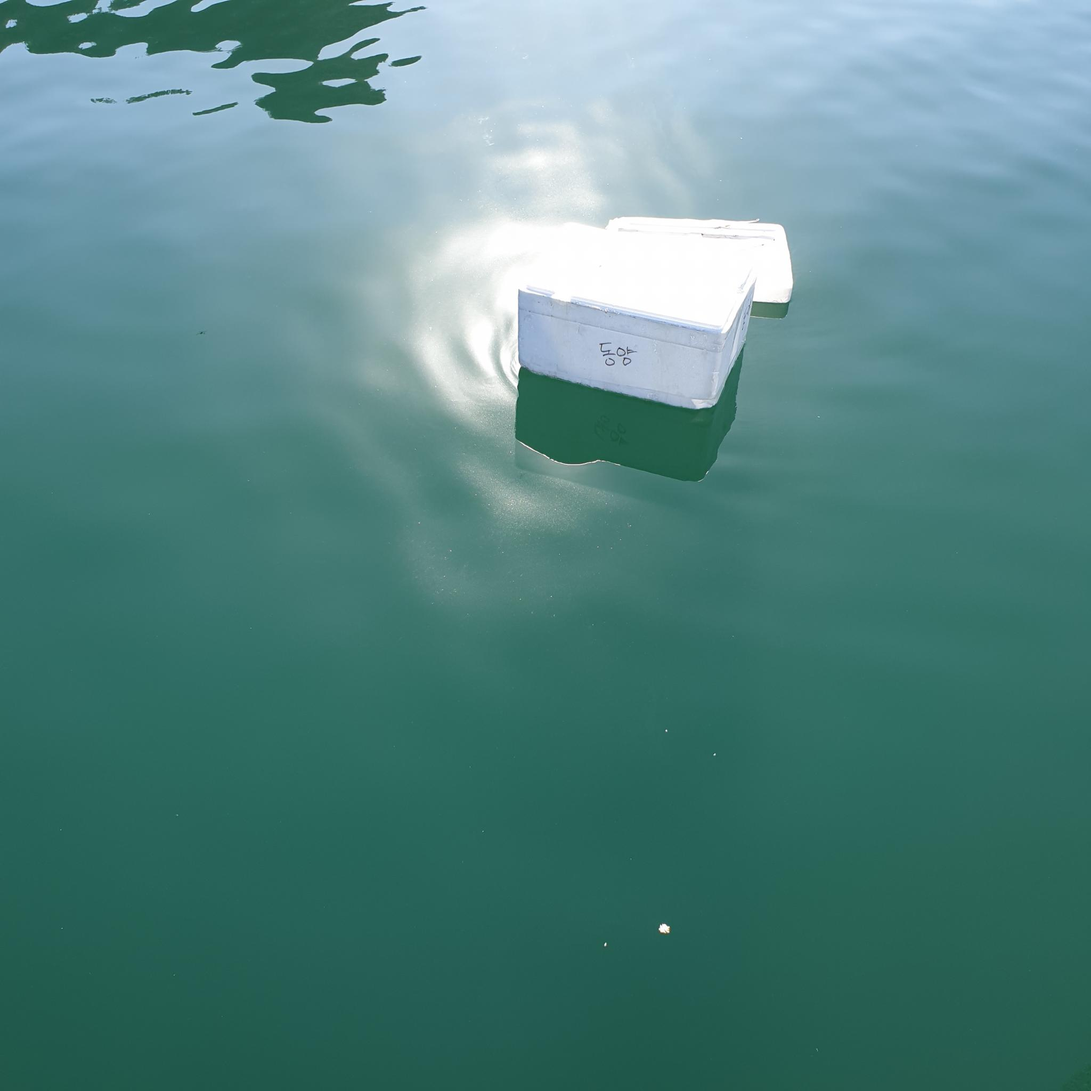sampah_terapung: (519, 223, 757, 410), (606, 217, 794, 304)
